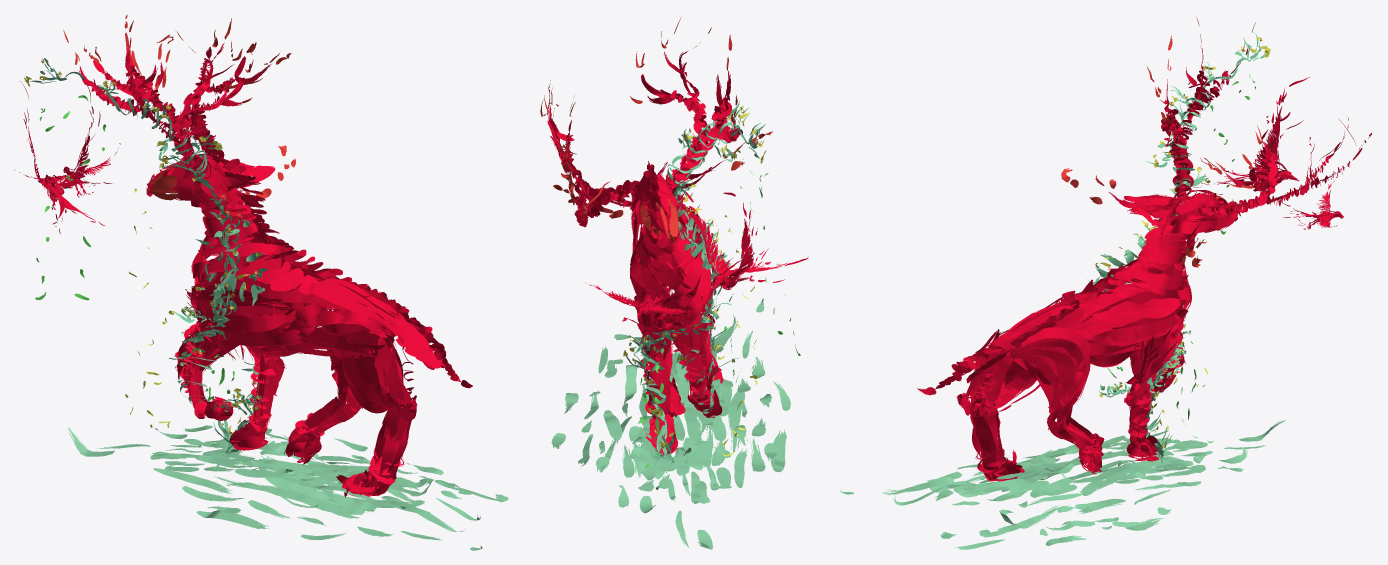
File: stag_and_friends_original.glb
The picture shows the model from 3 angles, left to right: view 1: azimuth 30°, elevation 25°; view 2: azimuth 150°, elevation 25°; view 3: azimuth 270°, elevation 25°; orthographic projection. The views are drawn at different scales.
Parts seen in each view (by area): view 1: brush_Ink_g0_b0_0, brush_Ink_g0_b1_3; view 2: brush_Ink_g0_b0_0, brush_Ink_g0_b1_3; view 3: brush_Ink_g0_b0_0, brush_Ink_g0_b1_3.
Part boxes in pixels (x1,y1,x2,y2): brush_Ink_g0_b0_0: (14,42,472,497); brush_Ink_g0_b1_3: (24,15,508,550); brush_Ink_g0_b0_0: (547,50,808,464); brush_Ink_g0_b1_3: (540,16,800,549); brush_Ink_g0_b0_0: (917,32,1362,481); brush_Ink_g0_b1_3: (840,17,1371,549).
Size of the model in its own units: 4.58 by 6.1 by 6.75.
Materials: 1 (1 with a texture image).
